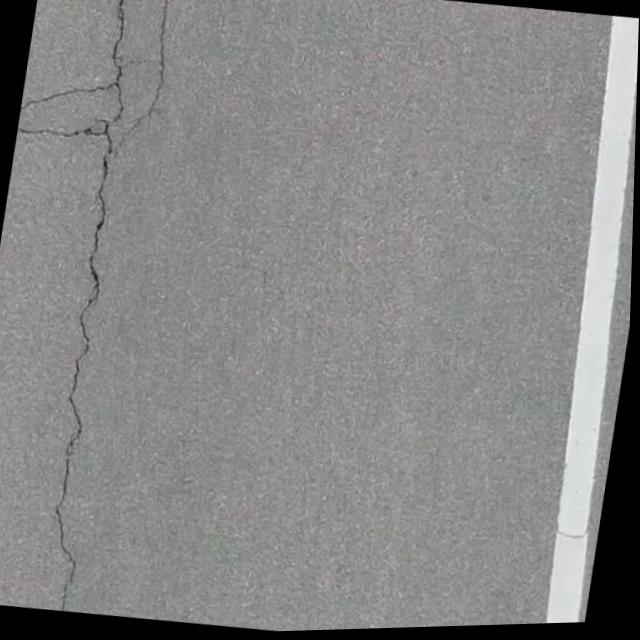Crack: (21, 0, 190, 616), (15, 62, 161, 160)
